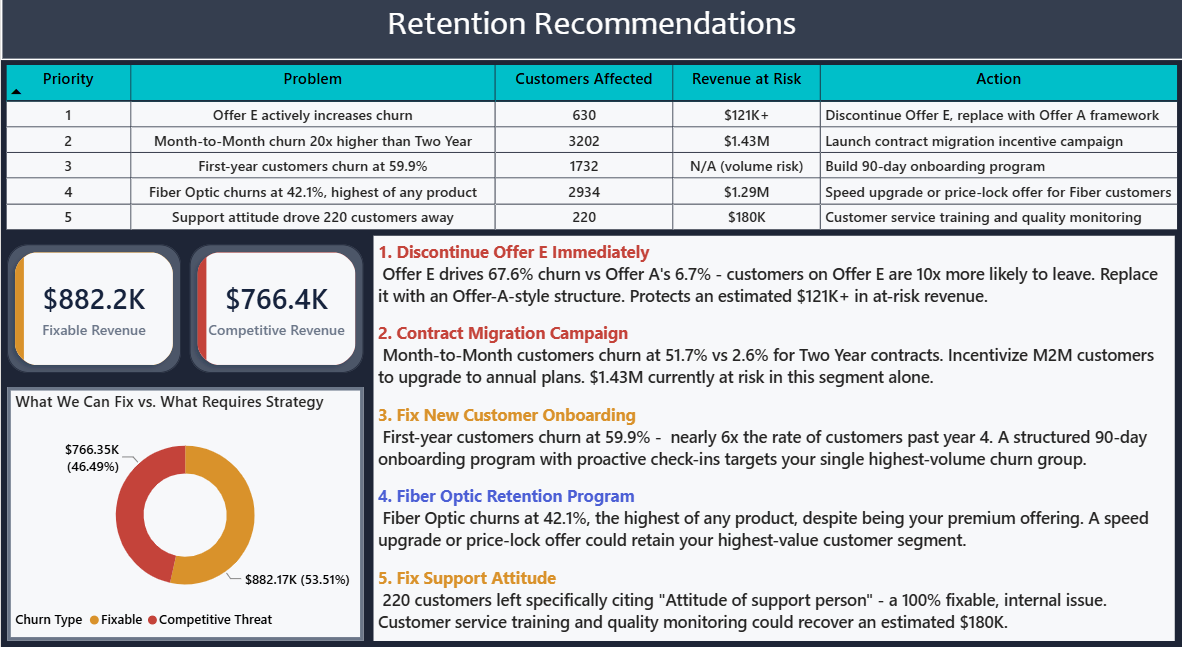

Layout of this report page (visuals, bound fields, positions):
{"tool":"powerbi","page":{"name":"Retention Recommendations","canvas":[1335,737],"ordinal":3},"visuals":[{"type":"textbox","box":[0,0,1335,71.6],"z":0},{"type":"tableEx","fields":{"Values":["Sum(Priority Actions.Priority)","Priority Actions.Problem","Sum(Priority Actions.Customers Affected)","Priority Actions.Revenue at Risk","Priority Actions.Action"]},"box":[0,72,1335.3,221.6],"z":1000},{"type":"cardVisual","fields":{"Data":["telecom_customers.Fixable Churn Revenue"]},"box":[7.2,279.1,196.1,146],"z":2000},{"type":"cardVisual","fields":{"Data":["telecom_customers.Competitive Churn Revenue"]},"box":[213.2,279.1,196.1,146],"z":3000},{"type":"donutChart","title":"What We Can Fix vs. What Requires Strategy","fields":{"Category":["telecom_customers.Churn_Type"],"Y":["telecom_customers.Annual Revenue at Risk"]},"box":[7.1,440.4,402.3,286.5],"z":4000},{"type":"textbox","box":[420.8,269.1,904.5,458],"z":5000}]}

Visuals, with their boxes in screenshot pixels (x1, y1, x2, y2), scaled from the page's 1335x737 canvas onto the 1182x647 screenshot:
textbox: 0/0/1181/63
tableEx - Sum(Priority Actions.Priority) x Priority Actions.Problem: 0/63/1181/258
cardVisual - telecom_customers.Fixable Churn Revenue: 6/245/180/373
cardVisual - telecom_customers.Competitive Churn Revenue: 189/245/362/373
"What We Can Fix vs. What Requires Strategy" donutChart: 6/387/362/638
textbox: 373/236/1173/638
